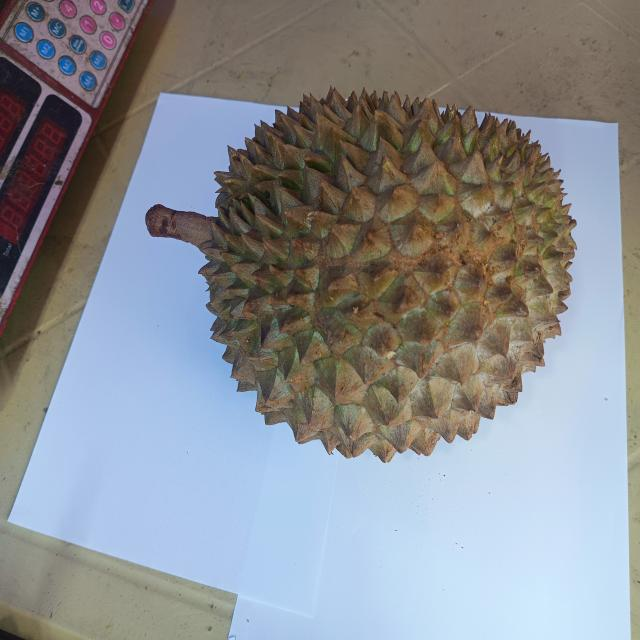mature: (146, 89, 576, 461)
